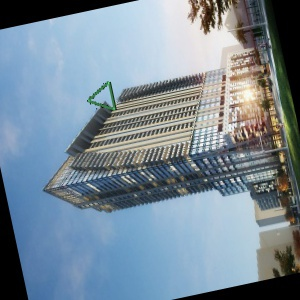triangle: (84, 78, 119, 115)
